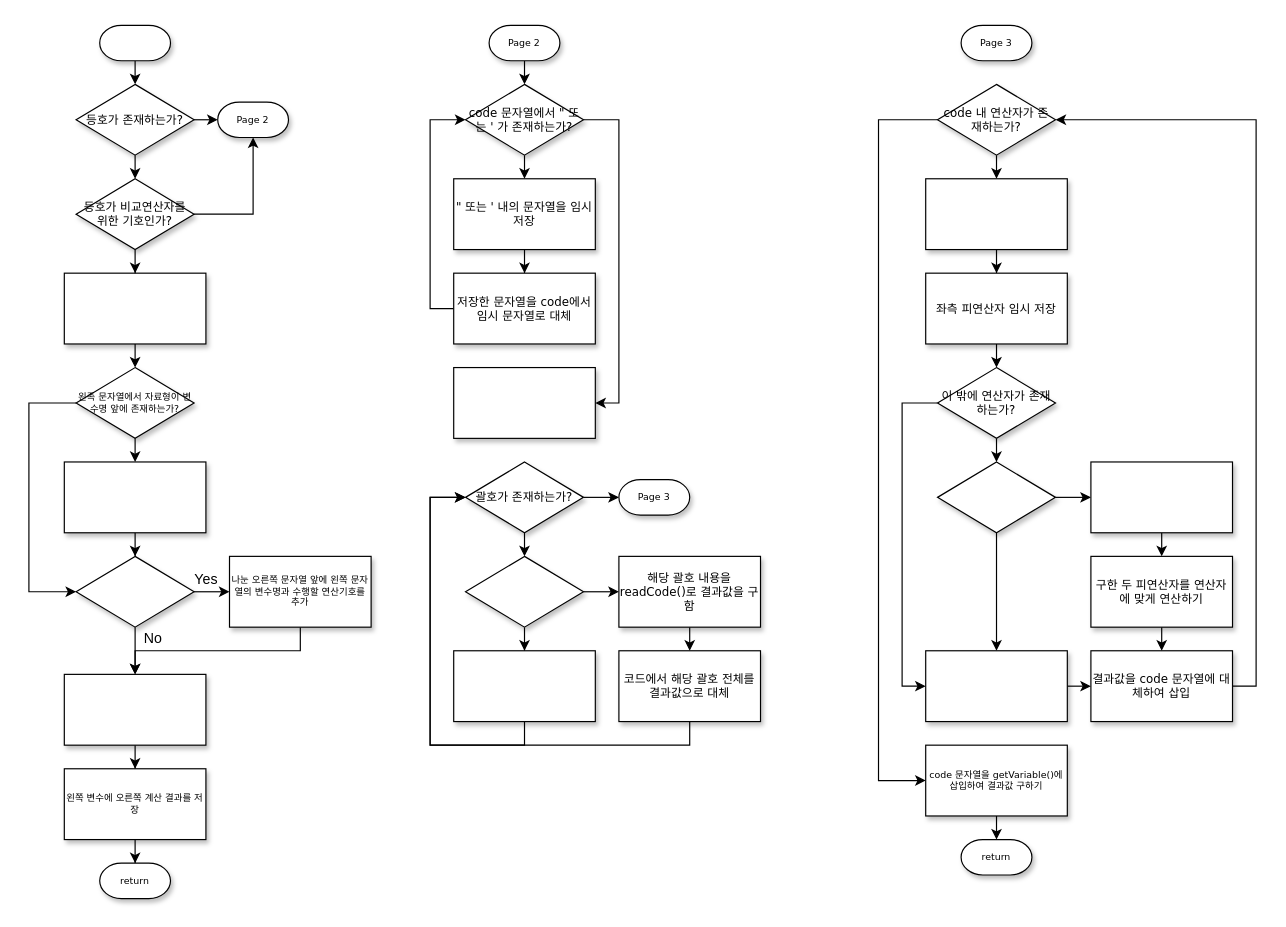
The diagram is 1286 pixels wide and 927 high, and some of its shapes have lost their labels. Here are the shapes that lost their labels. From the top down, the centre of each, then its label:
point (136, 44): Page 1
point (997, 215): 가장 좌측 연산자 기준으로 문자열 분리
point (135, 309): 가장 좌측 등호를 기준으로 문자를 나눈다
point (525, 404): 공백 모두 제거
point (135, 498): makeVariable()을 이용하여 변수를 생성
point (997, 498): 현재 수행하고자 했던 연산자보다 우선 순위가 높은가?
point (1162, 498): 두 번째로 좌측에 위치한 연산자 기준으로 피연산자 구하여 임시 저장
point (135, 592): =앞에 연산자가 붙어있는가?
point (525, 592): 괄호의 내용이 타입인가?
point (525, 687): 괄호 삭제
point (997, 687): 오른쪽 문자열을 readCode()에 보내어 두 번째 피연산자 생성 후 임시저장
point (135, 710): 오른쪽 문자열을 readCode()에 인자로 보내 결과값을 받음
